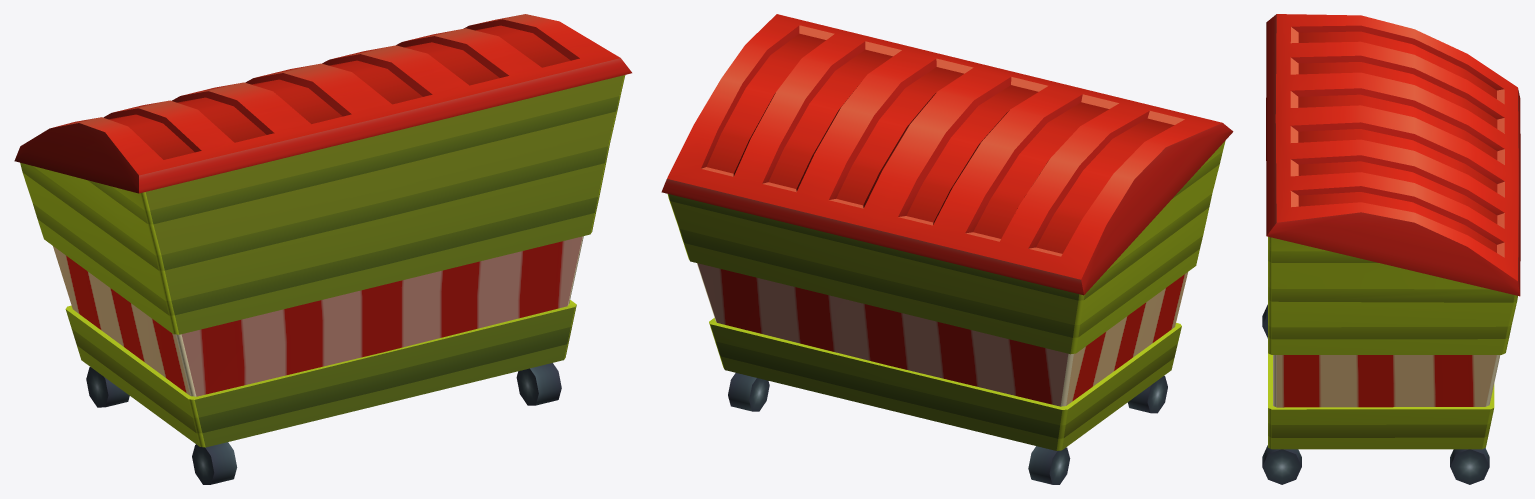
The model's file is 1.100_SanFrancisco_dumpster.glb.
3 renders of one model, left to right at view 1: azimuth 30°, elevation 25°; view 2: azimuth 150°, elevation 25°; view 3: azimuth 270°, elevation 25°, orthographic. The views are drawn at different scales.
Parts seen in each view (by area): view 1: 1.100_SanFrancisco_dumpster; view 2: 1.100_SanFrancisco_dumpster; view 3: 1.100_SanFrancisco_dumpster.
Part boxes in pixels (<box>): 1.100_SanFrancisco_dumpster: <box>14,14,631,484</box>; 1.100_SanFrancisco_dumpster: <box>661,14,1233,484</box>; 1.100_SanFrancisco_dumpster: <box>1262,14,1520,484</box>.
Size of the model in its own units: 20.4 by 13.15 by 10.41.
Materials: 1 (1 with a texture image).
